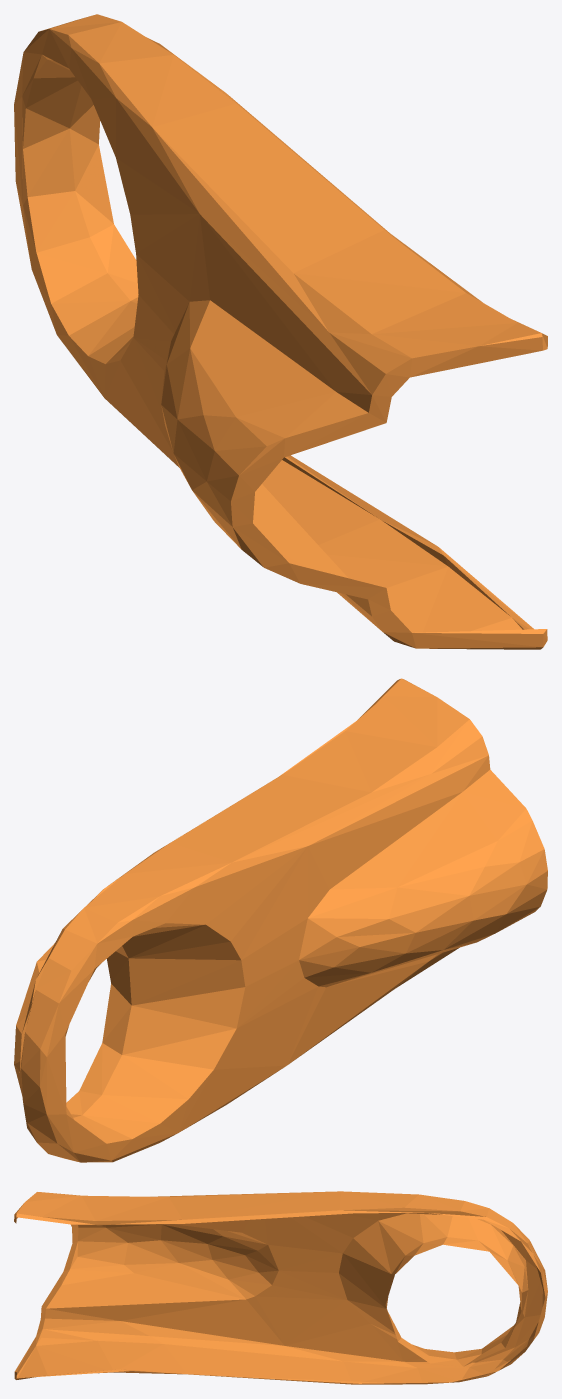
File: youbot_test_export_urdf_ME_Arm3_01_sub1_sub0_sub0_vis_2.dae
3 views of the same model, one above another, from view 1: azimuth 30°, elevation 25°; view 2: azimuth 150°, elevation 25°; view 3: azimuth 270°, elevation 25° (orthographic). The views are drawn at different scales.
Parts seen in each view (by area): view 1: Node_0000015E15F57680; view 2: Node_0000015E15F57680; view 3: Node_0000015E15F57680.
Part boxes in pixels (x1,y1,x2,y2): Node_0000015E15F57680: [14, 14, 547, 649]; Node_0000015E15F57680: [14, 678, 547, 1162]; Node_0000015E15F57680: [14, 1191, 547, 1384].
Size of the model in its own units: 0.0519 by 0.0577 by 0.1582.
